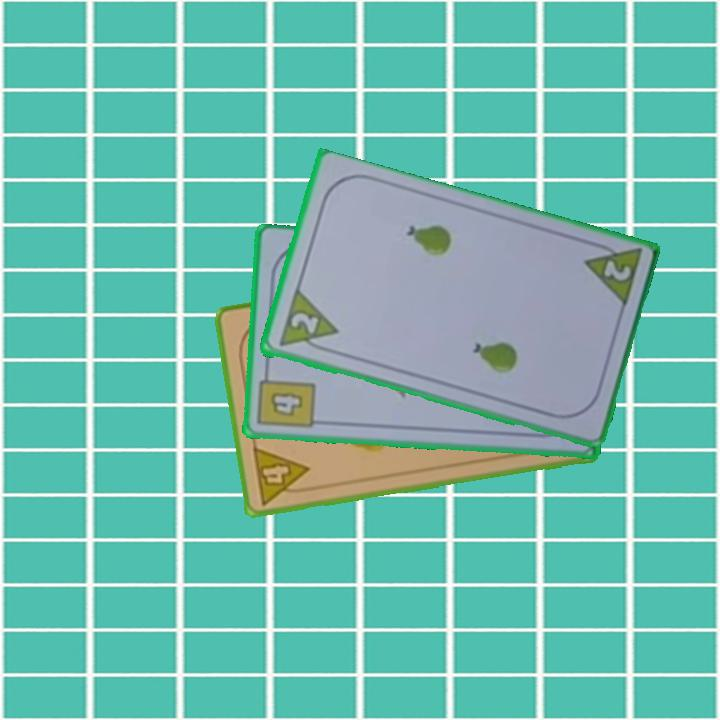2p: (578, 237, 644, 312), (286, 309, 321, 337)
4b: (254, 365, 318, 432)
4p: (249, 443, 315, 508)
